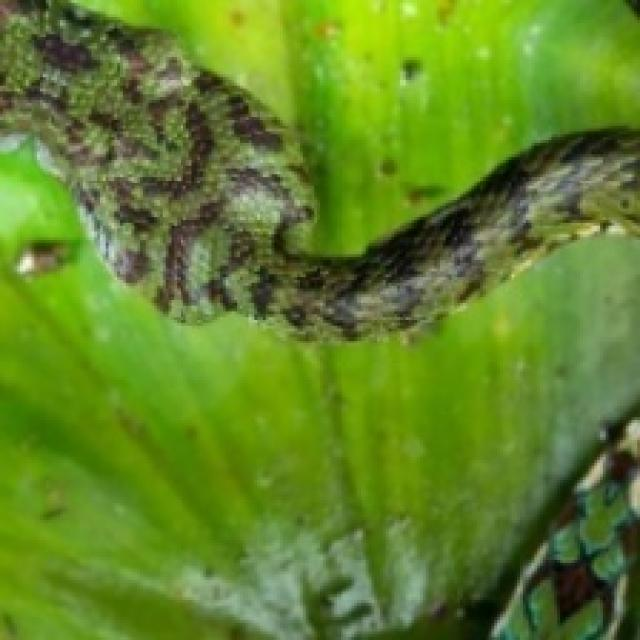philippine pitviper: (0, 0, 637, 334), (0, 3, 637, 334)
